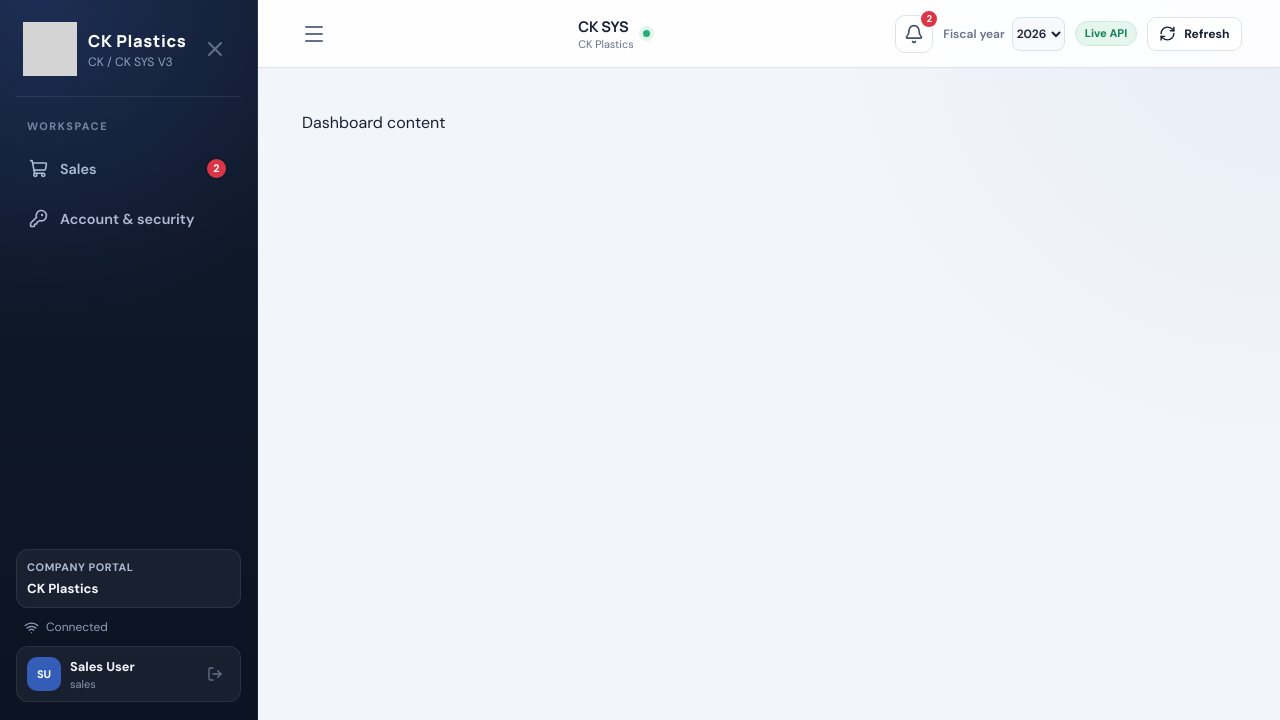
Test: permission-scoped workspace access › shows pending catalogue orders in the Sales badge and notification bell
The image size is (1280, 720).
Check: the text named "2 pending orders" is shown, box [205,157,228,180]
Click the heading named "2 pending order notifications".
click(914, 34)  # box [895,14,933,52]
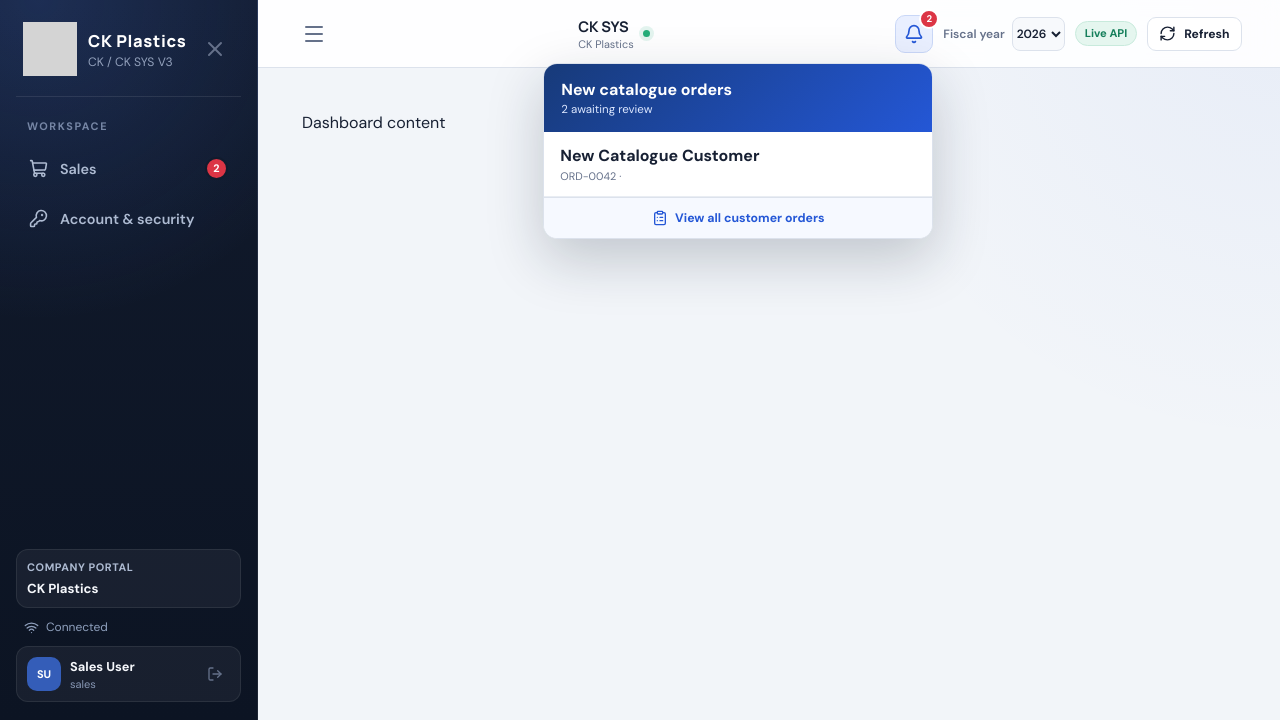
Check: the text "New Catalogue Customer" is shown, box [560,144,760,166]
Check: the text "2 awaiting review" is shown, box [561,102,652,116]
